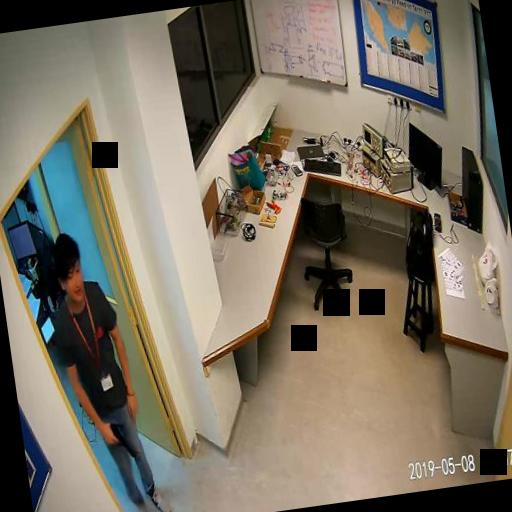Handgun: (106, 419, 136, 459)
